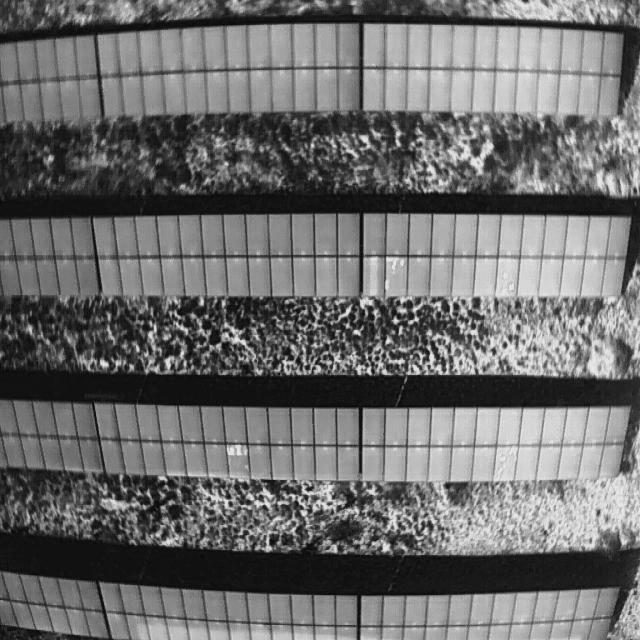panel: (408, 212, 434, 256), (430, 212, 456, 256), (453, 213, 479, 257), (223, 213, 247, 259), (246, 212, 270, 258), (268, 212, 292, 258), (291, 212, 315, 258), (314, 211, 338, 257), (338, 211, 362, 257), (363, 210, 387, 256), (430, 405, 456, 447), (224, 256, 251, 296), (224, 443, 252, 481), (384, 255, 409, 297), (407, 256, 432, 298), (429, 255, 454, 297), (451, 256, 476, 298), (247, 256, 272, 297), (270, 256, 295, 297), (292, 257, 317, 298), (313, 256, 338, 297), (386, 212, 409, 256), (407, 406, 432, 446), (384, 406, 408, 447), (268, 406, 293, 445), (290, 406, 315, 445), (313, 407, 338, 446), (336, 407, 361, 446), (247, 445, 273, 482), (362, 257, 385, 298), (337, 257, 361, 296), (362, 407, 386, 446), (428, 445, 453, 482), (223, 406, 247, 444), (246, 406, 270, 444), (270, 445, 294, 481), (292, 445, 316, 481), (313, 445, 337, 481), (337, 446, 361, 482), (361, 447, 385, 483), (383, 447, 407, 483), (406, 447, 430, 483)
